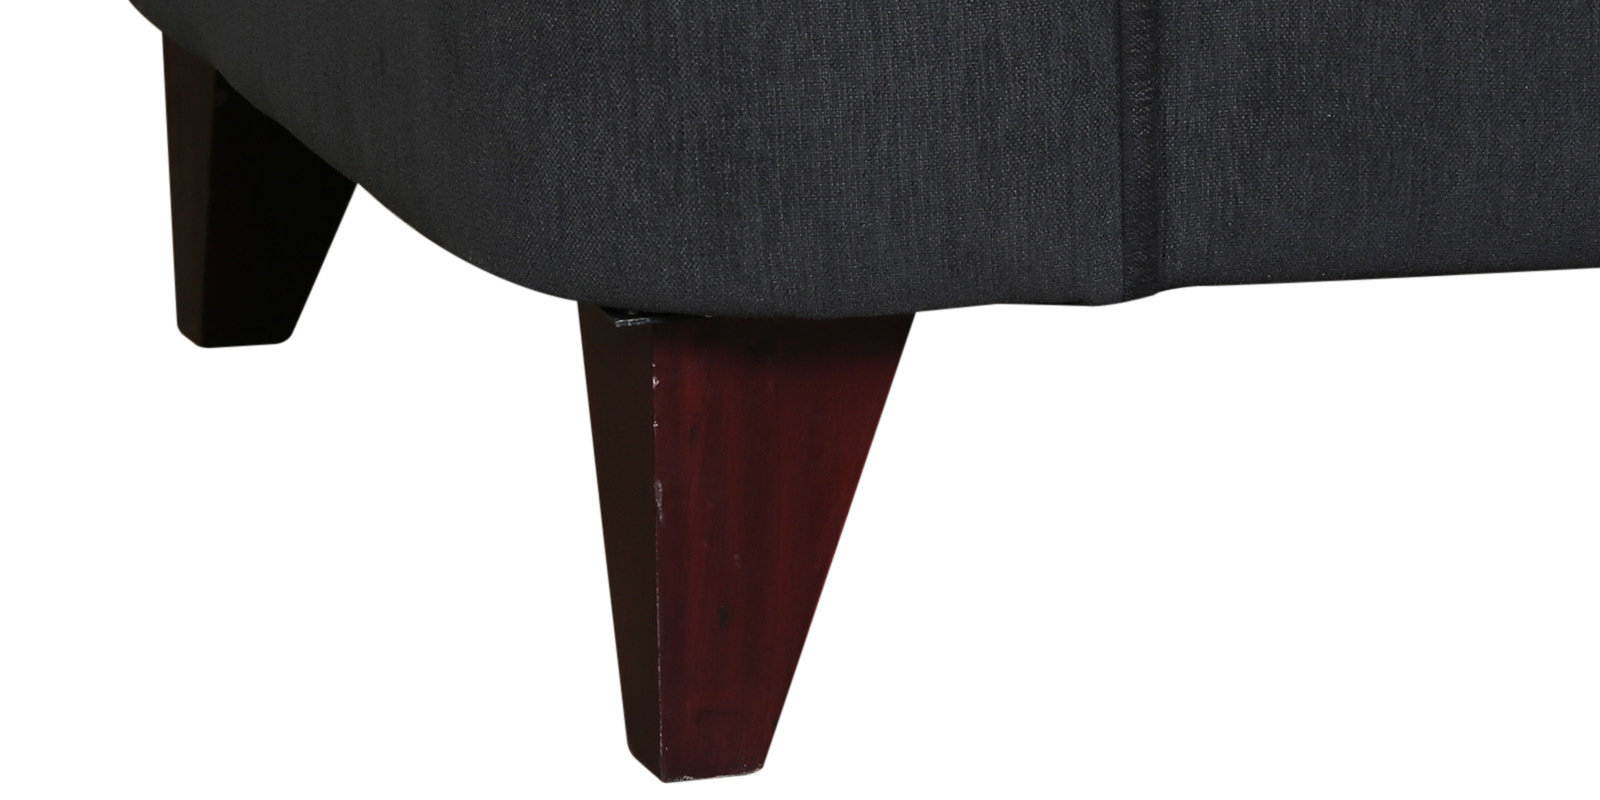Lara Three Seater Sofa in Charcoal Grey Colour by CasaCraft: (123, 4, 1600, 786)
